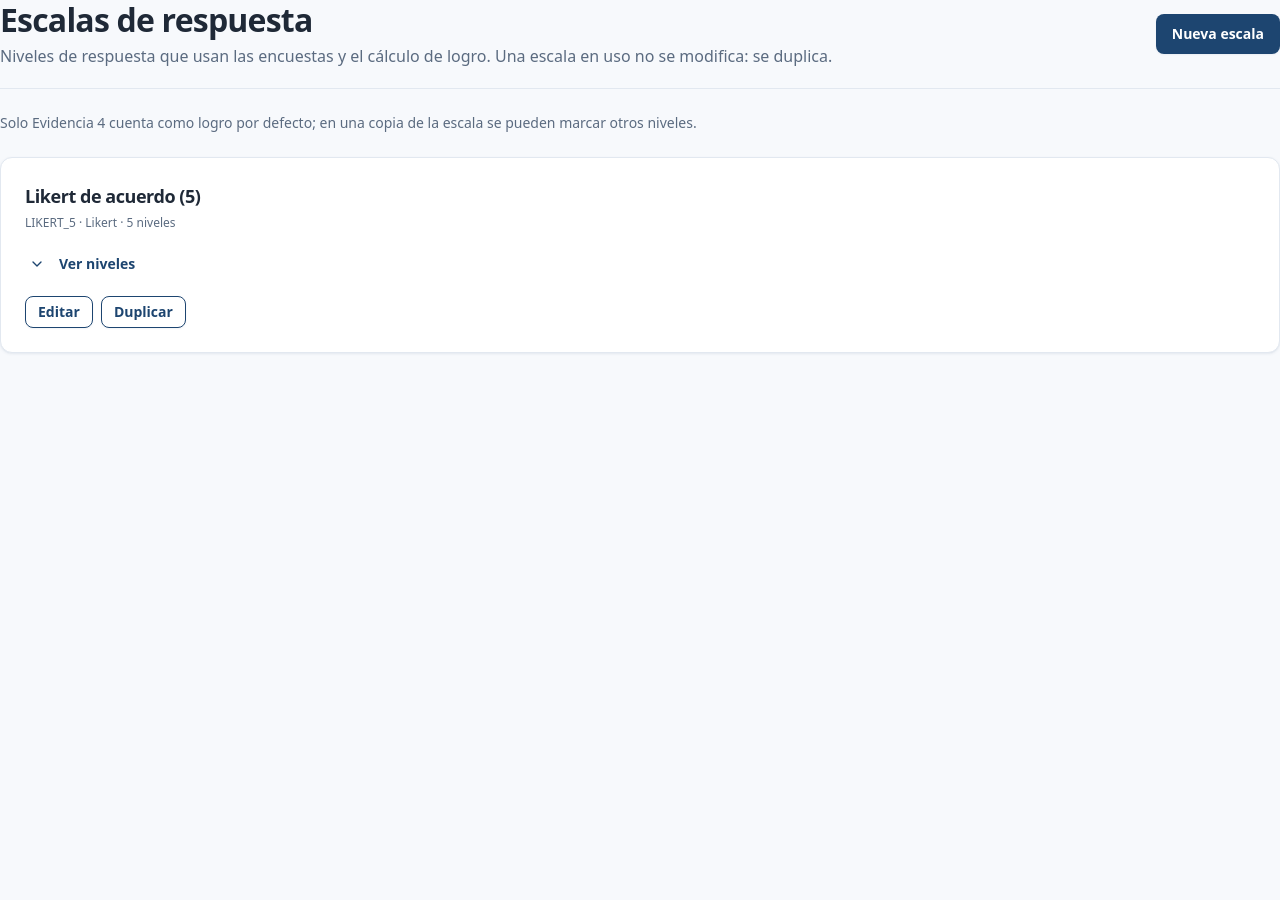
Scenario: ResponseScalesPage Component (HU-012, T-012-17, CA1, CA2, CA3) › creates a scale from the panel, reloads the list, closes the panel and returns the focus
The width and height of the screenshot is (1280, 900).
Click the button "Nueva escala" at (1218, 34), box [1156, 14, 1279, 54]
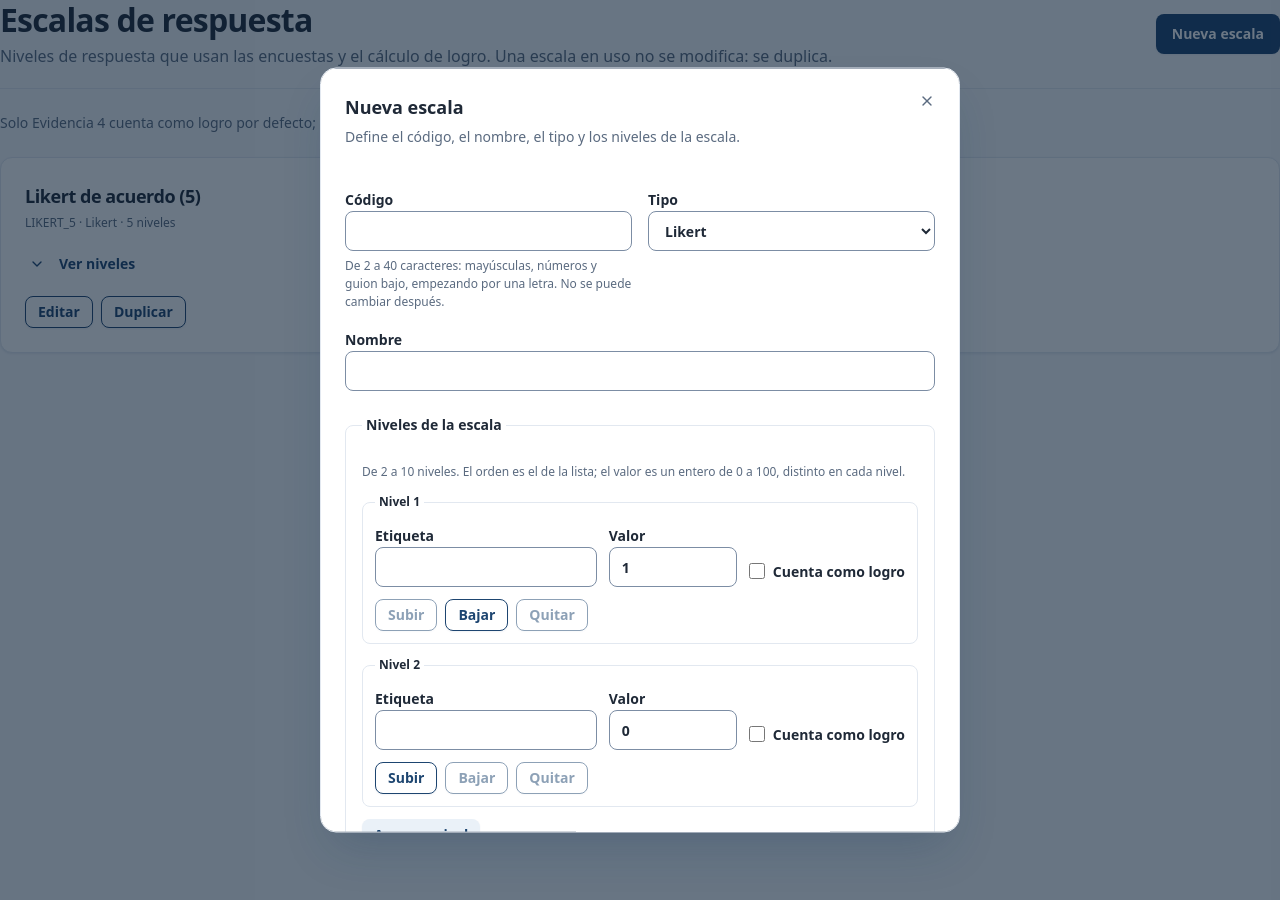
Type "MI_ESCALA" into the field labelled "Código" at (488, 230), box [345, 210, 632, 250]
Type "Mi escala" into the field labelled "Nombre" at (640, 370), box [345, 350, 935, 390]
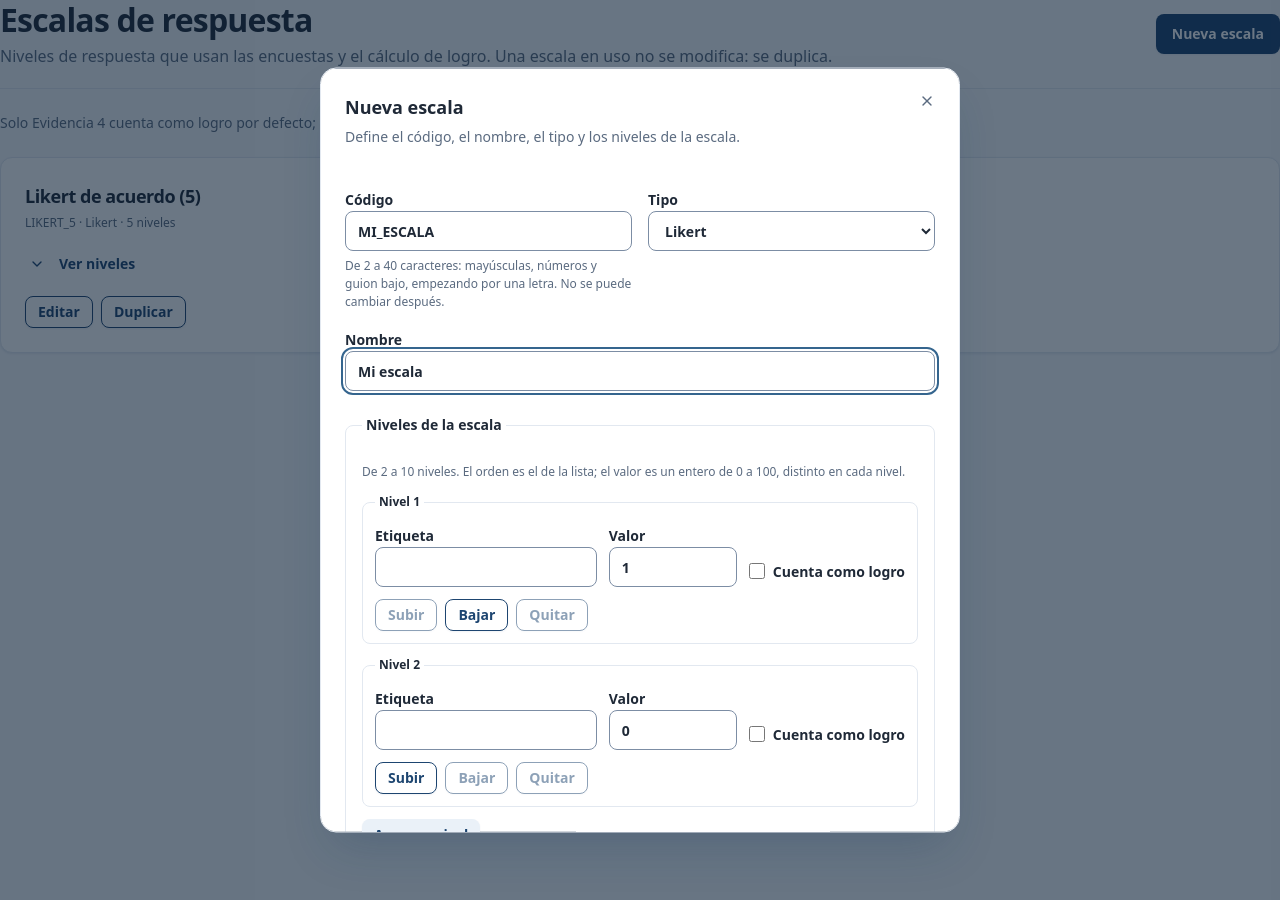
Type "Bajo" into the field named "Etiqueta del nivel 1" at (486, 566), box [375, 546, 597, 586]
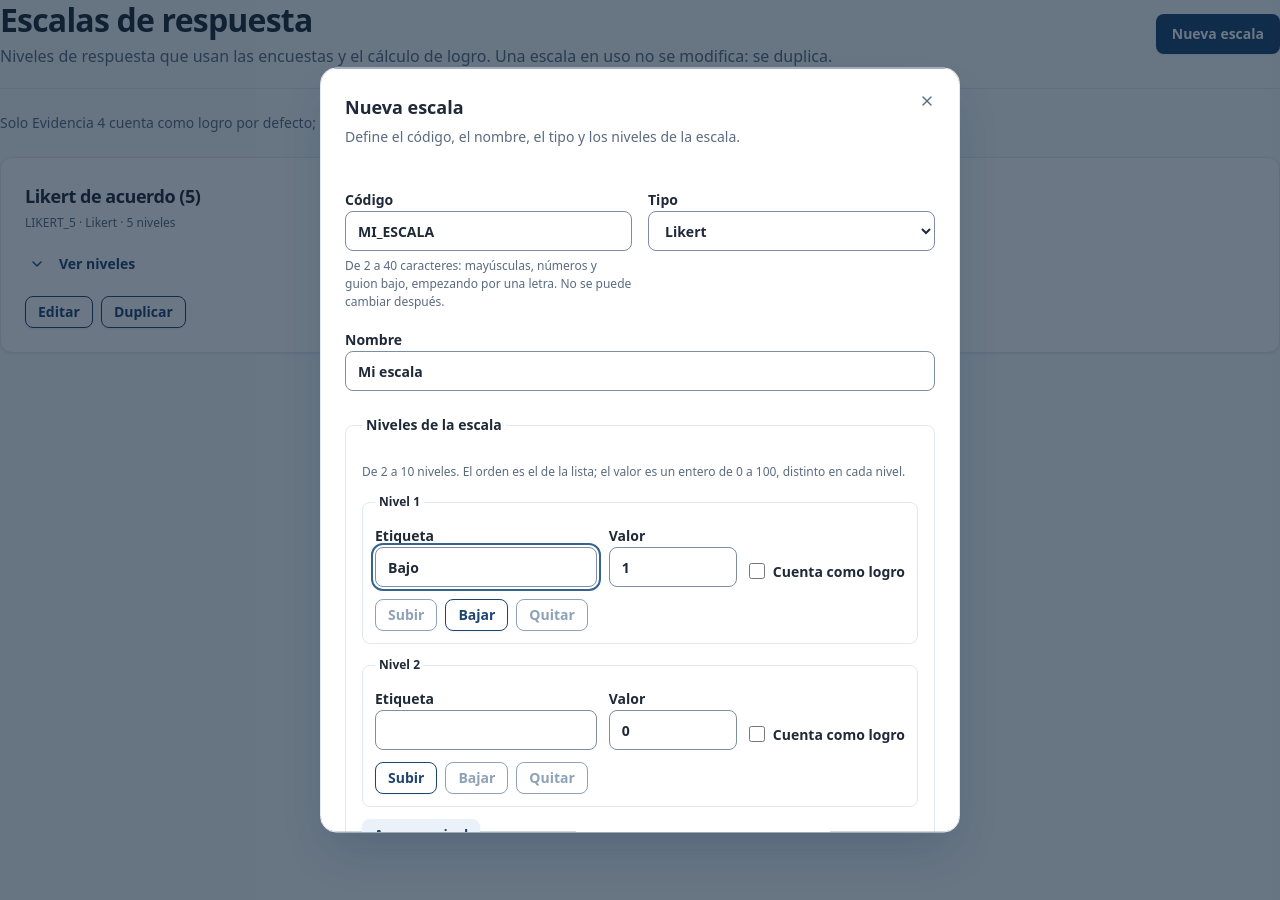
Type "Alto" into the field named "Etiqueta del nivel 2" at (486, 730), box [375, 710, 597, 750]
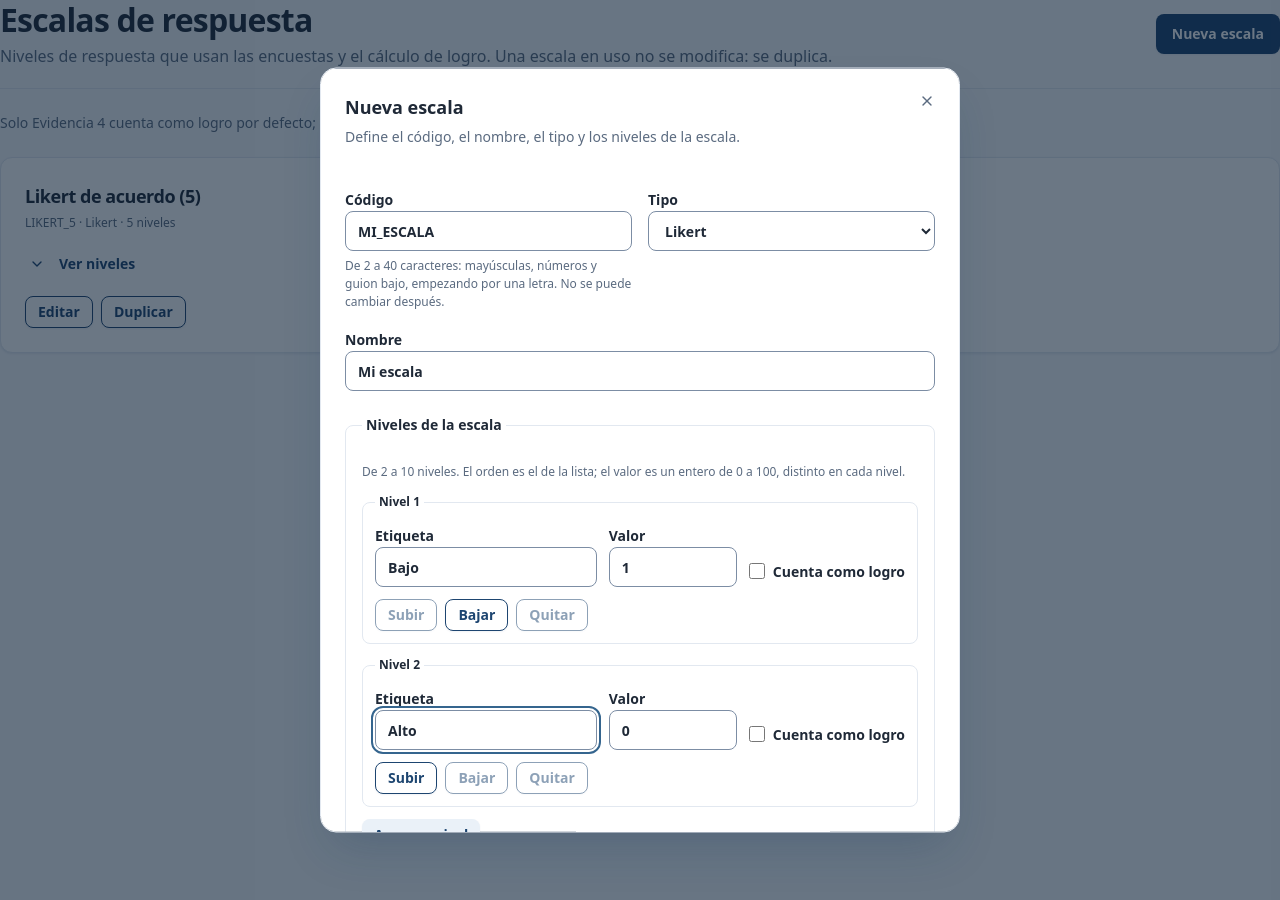
Replace the text in the number field named "Valor del nivel 2" with "2" at (673, 730), box [609, 710, 737, 750]
(page scrolled)
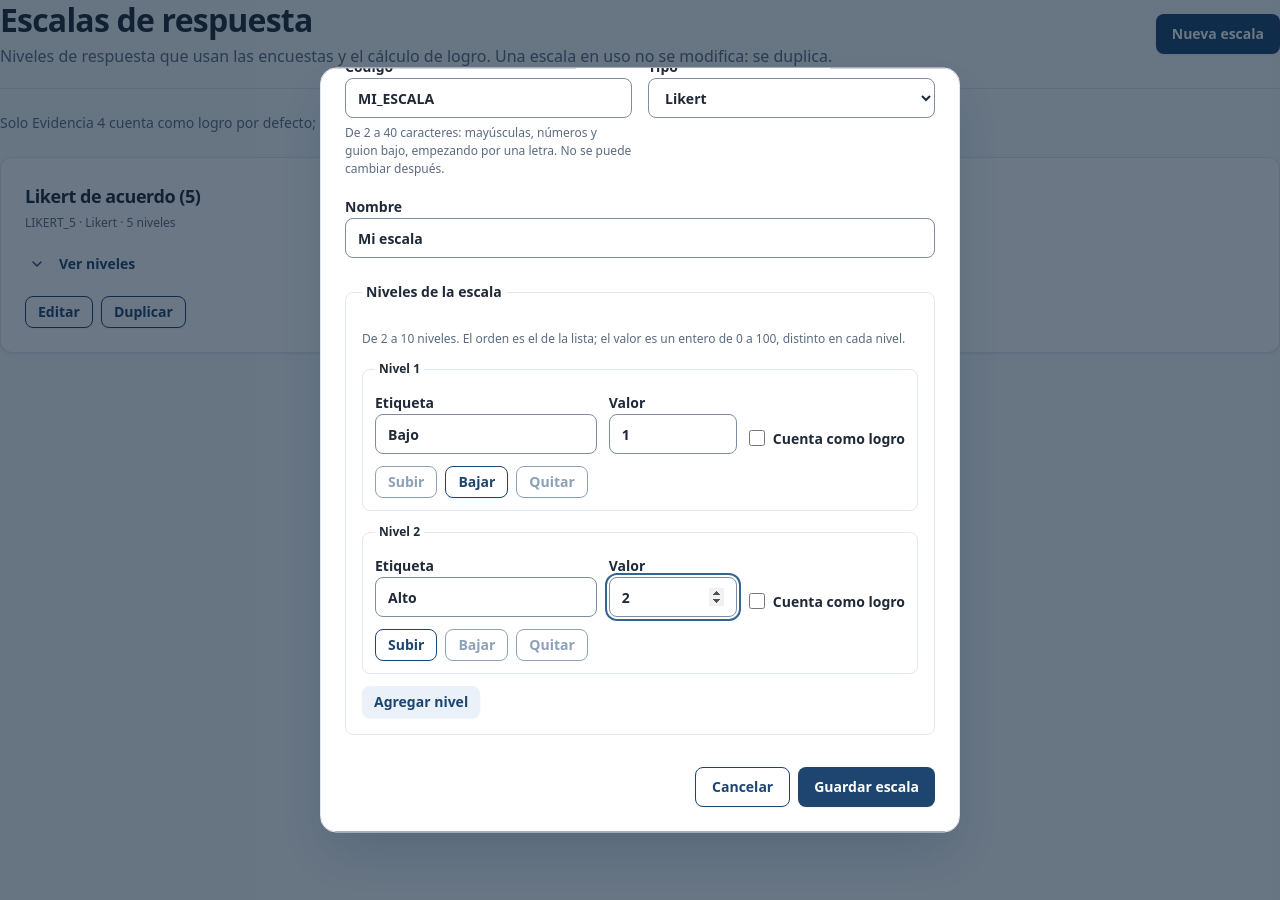
Click the button "Guardar escala" at (867, 788), box [798, 768, 935, 808]
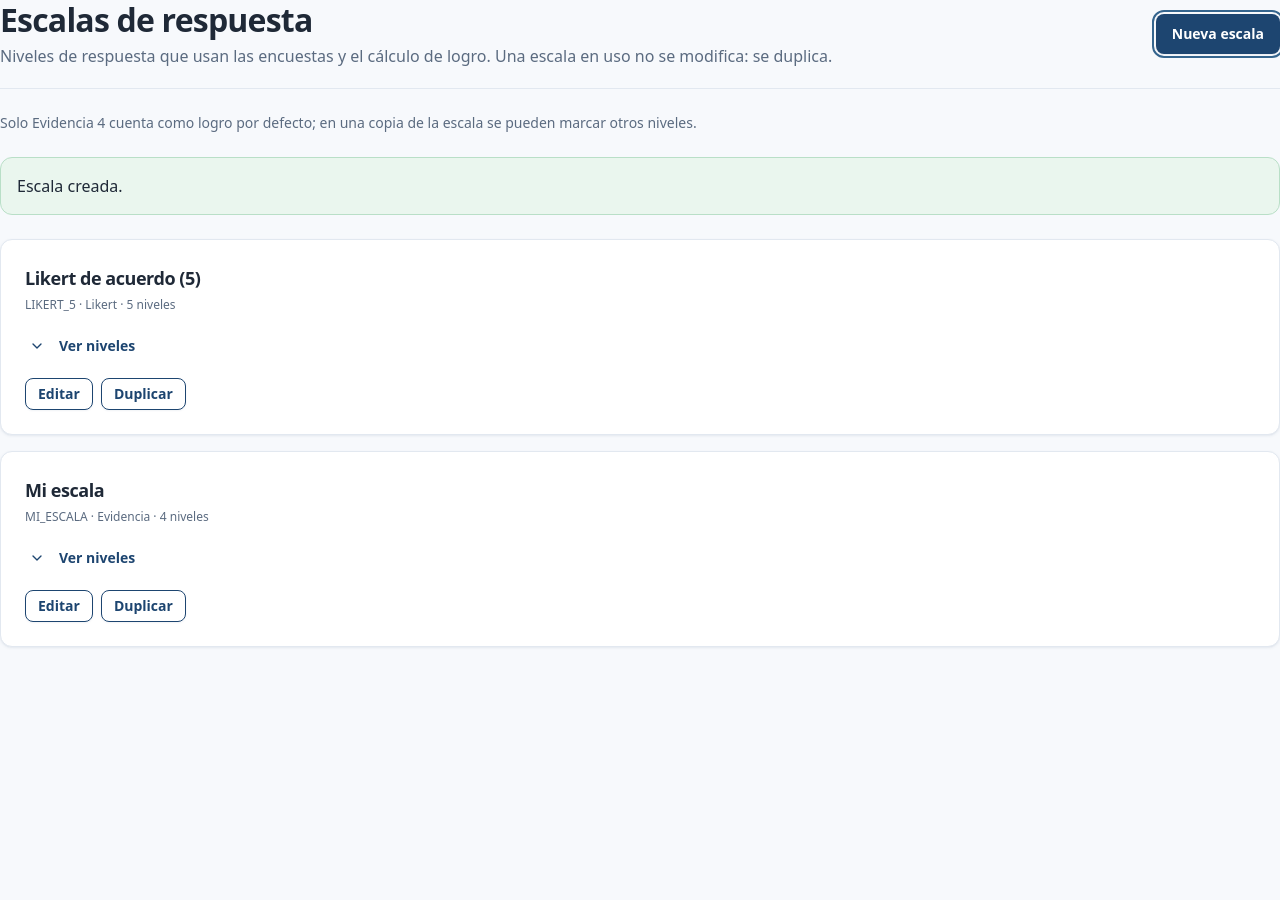
Result: the text "Escala creada." is shown at [17, 175, 123, 197]
Result: the element "Mi escala" is shown at [0, 451, 1279, 647]
